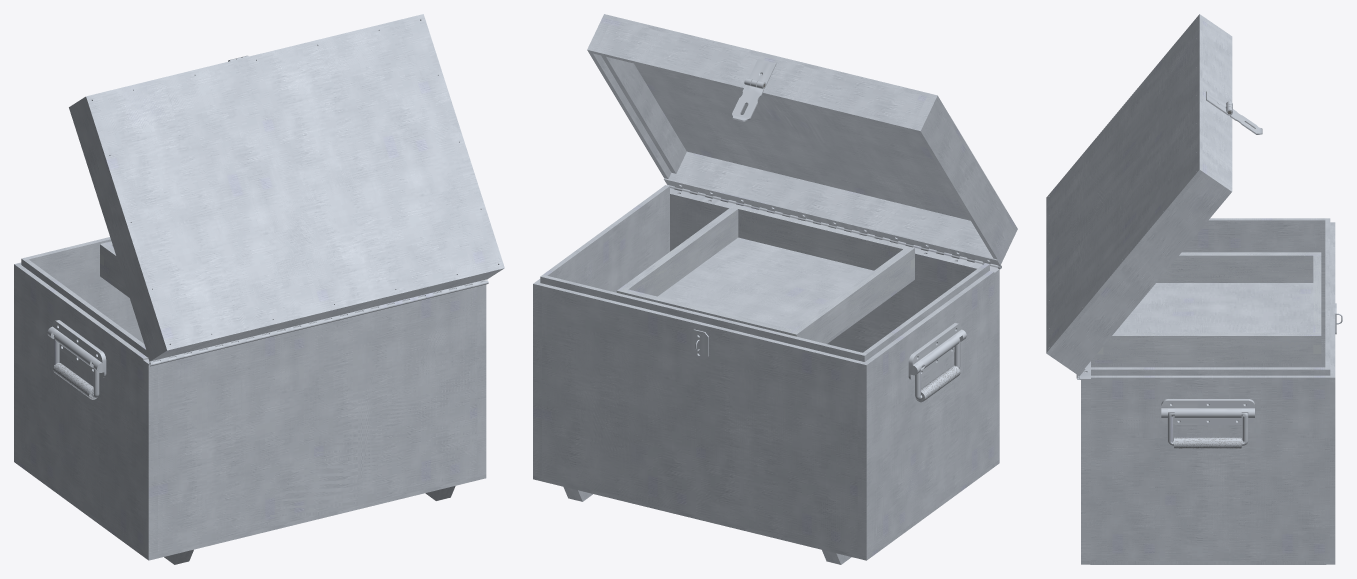
The picture shows the model from 3 angles, left to right: view 1: azimuth 30°, elevation 25°; view 2: azimuth 150°, elevation 25°; view 3: azimuth 270°, elevation 25°; orthographic projection. The views are drawn at different scales.
Parts seen in each view (by area): view 1: Material3.002, Material2.003, Material2, Material3.003, Material3.004; view 2: Material3.002, Material2.003, Material3.004, Material2, Material3.005, Material3.003; view 3: Material3.002, Material2.003, Material3.004, Material2, Material3.005, Material3.003.
Part boxes in pixels (<box>): Material3.002: <box>14,14,504,560</box>; Material2.003: <box>14,16,503,554</box>; Material2: <box>47,55,488,399</box>; Material3.003: <box>16,97,502,554</box>; Material3.004: <box>100,241,127,293</box>; Material3.002: <box>533,14,1017,560</box>; Material2.003: <box>541,20,1014,554</box>; Material3.004: <box>617,204,914,343</box>; Material2: <box>664,59,1001,402</box>; Material3.005: <box>616,205,914,342</box>; Material3.003: <box>533,14,1016,555</box>; Material3.002: <box>1046,14,1335,564</box>; Material2.003: <box>1046,18,1335,560</box>; Material3.004: <box>1095,252,1321,363</box>; Material2: <box>1076,91,1342,448</box>; Material3.005: <box>1095,252,1321,363</box>; Material3.003: <box>1049,14,1335,377</box>.
Size of the model in its own units: 69.5 by 80.55 by 52.87.
12 materials, 10 textured.
